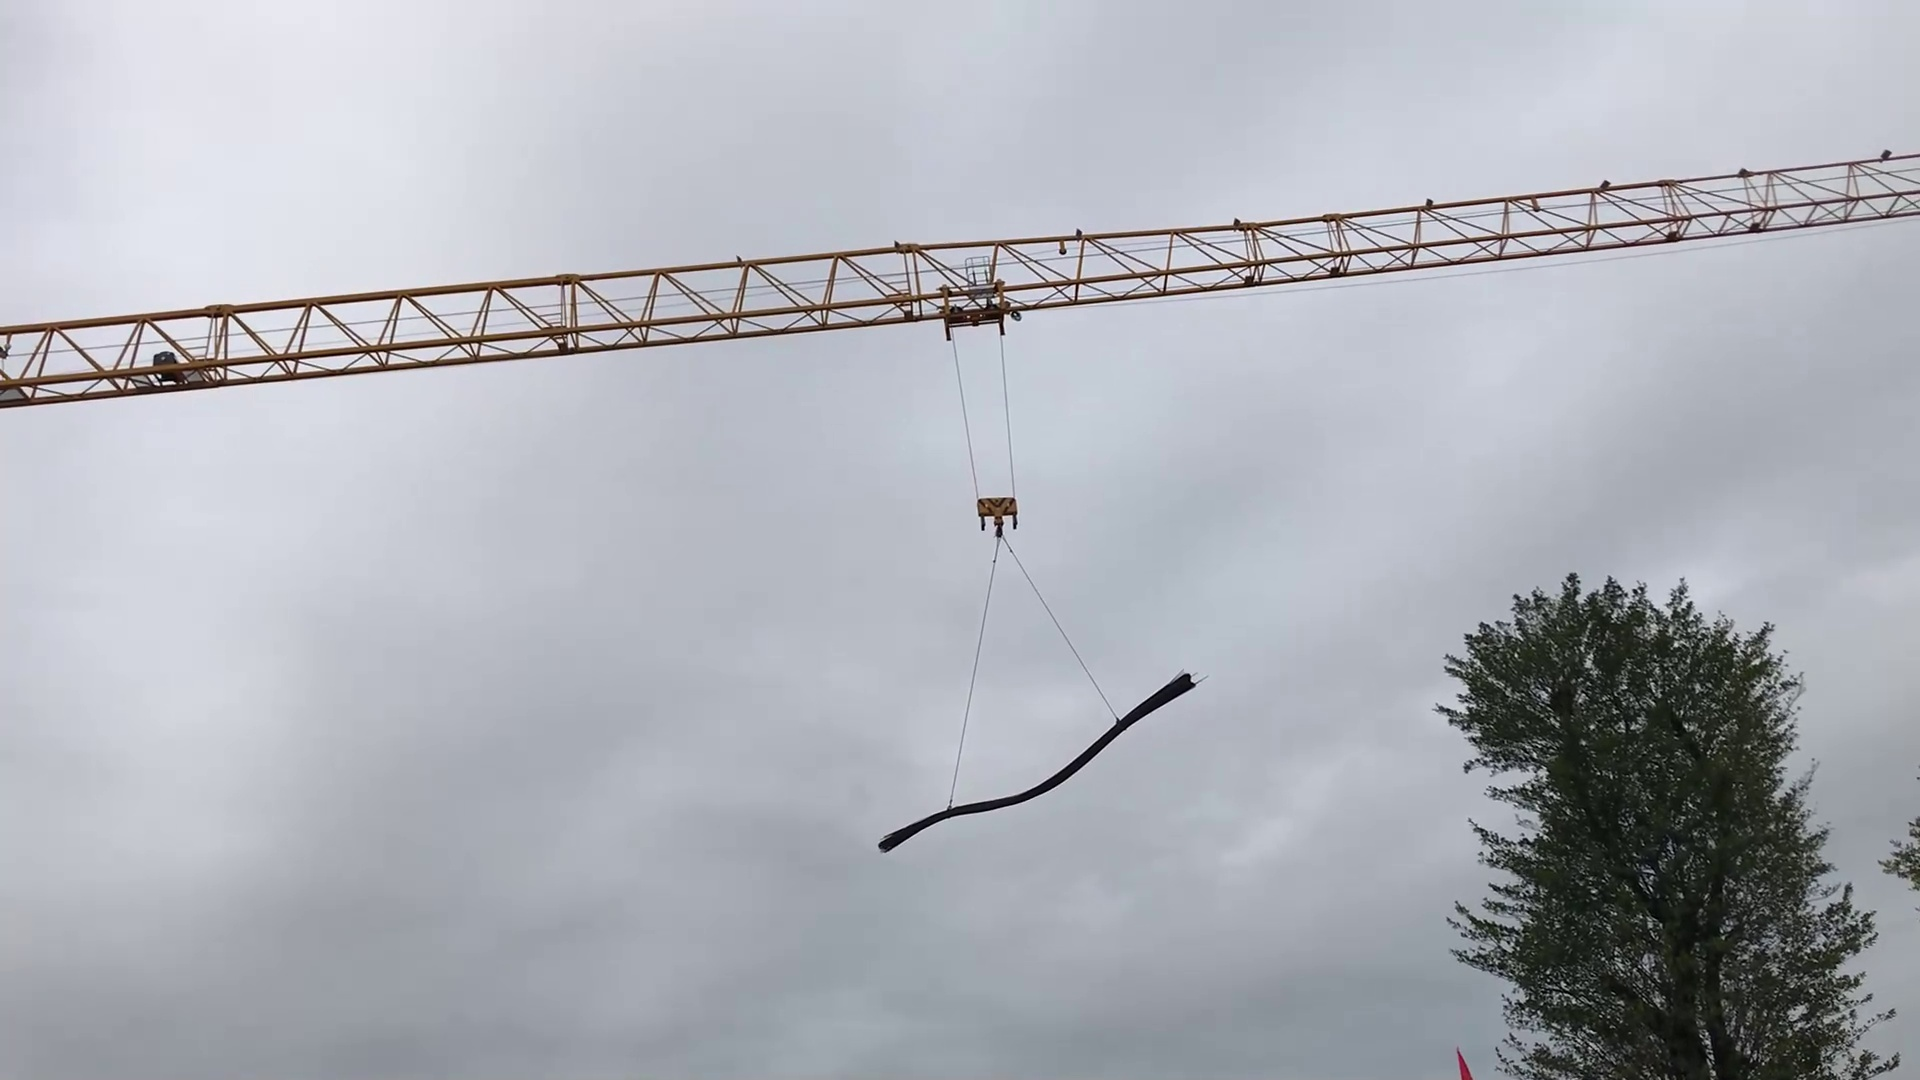hook: (971, 491, 1025, 545)
rebar: (877, 669, 1196, 852)
